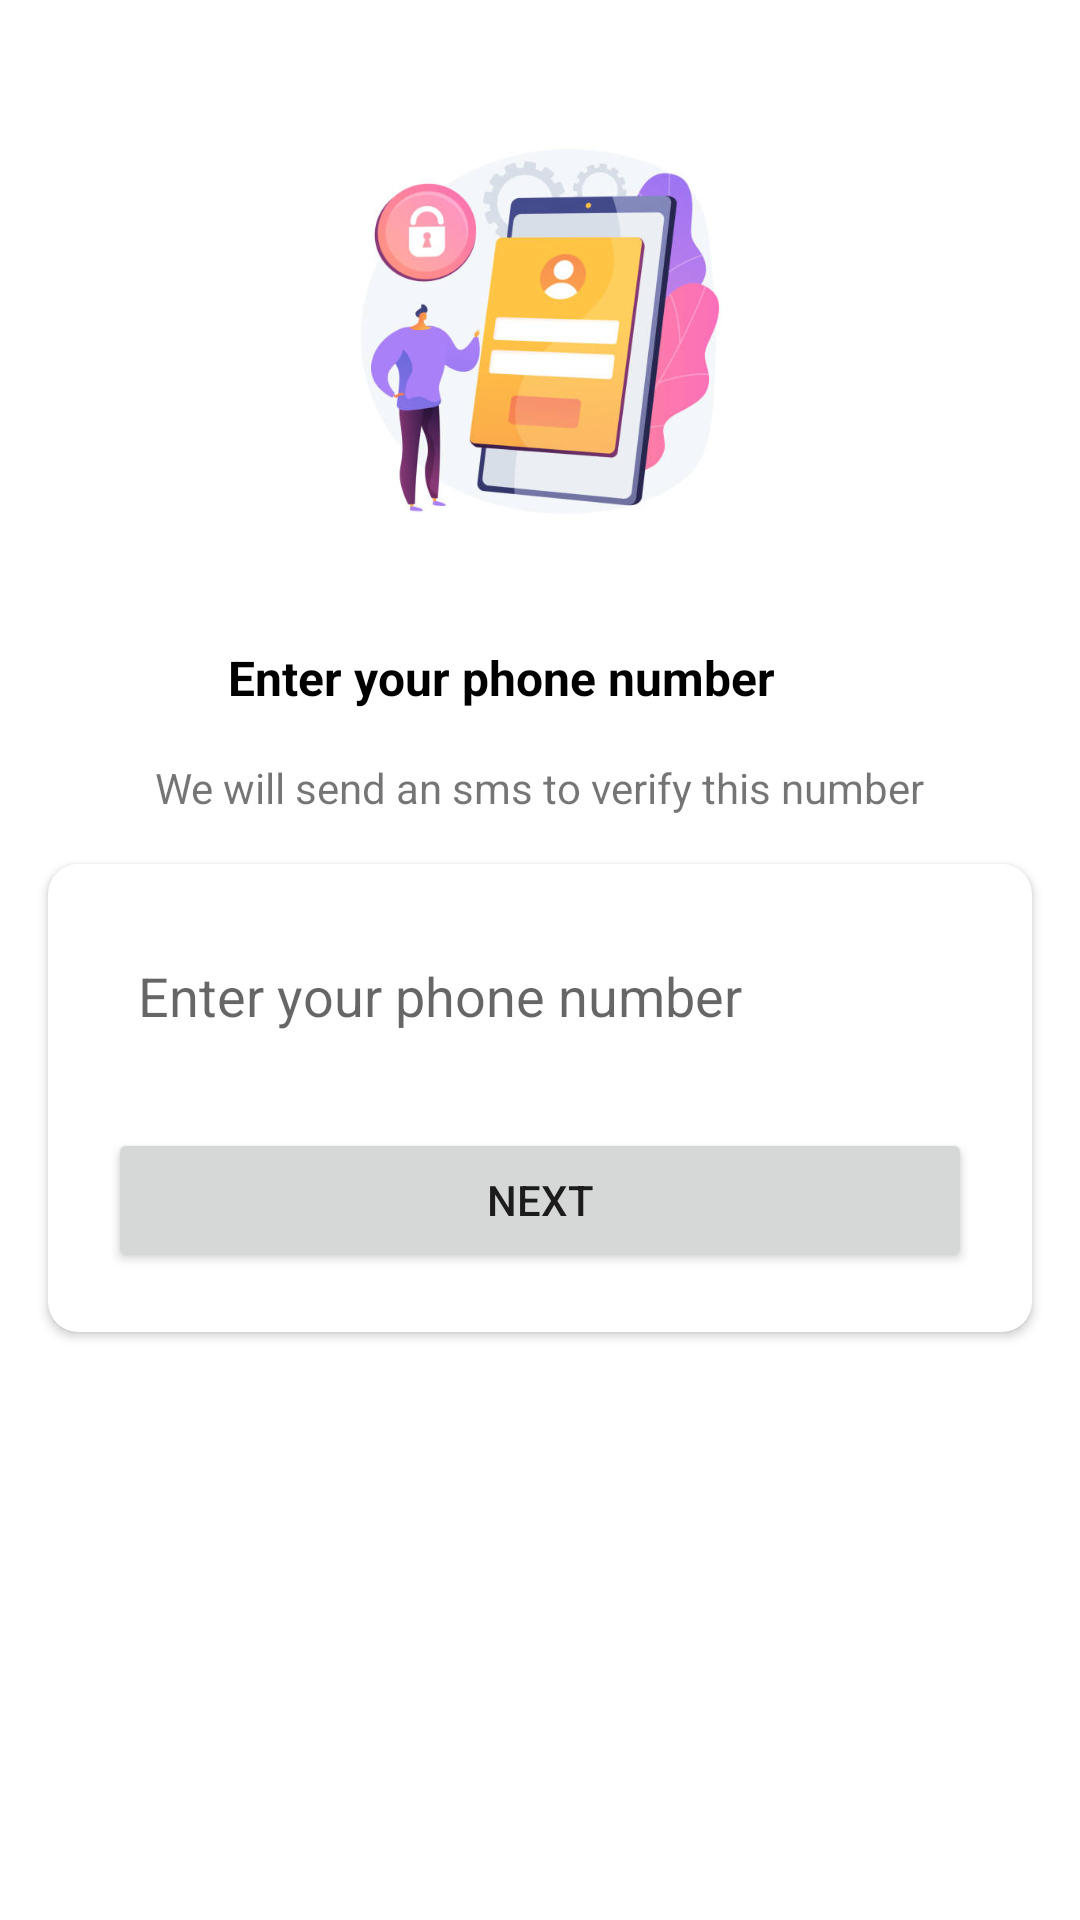

Screen size 1080w x 1920h. Icon name, then its center in pixels as point (x, y):
phoneauth: point (545, 336)
